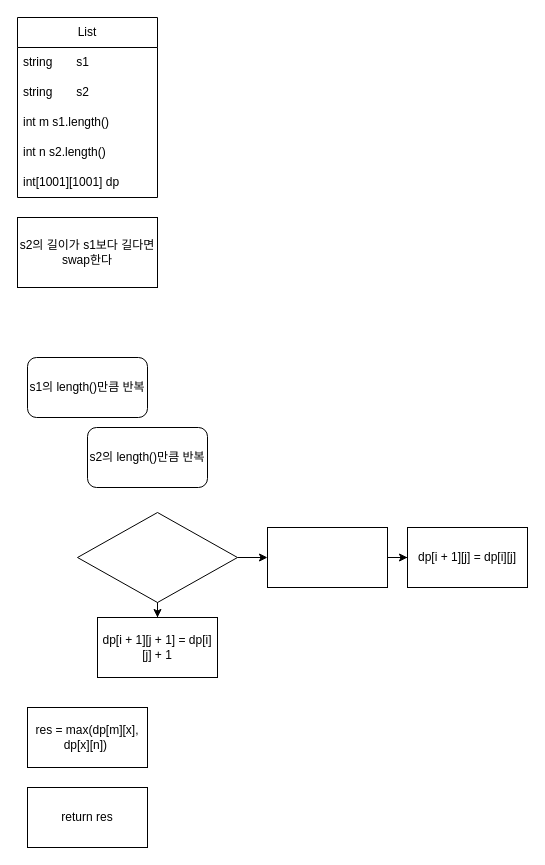
Some shapes in this 545 by 865 pixel diagram are drawn without their labels. The centre of each missing label's shape, as x and y in pixels:
dp[i][j + 1] = dp[i][j]: (327,557)
s1[i] == s2[j]인가: (157,557)
